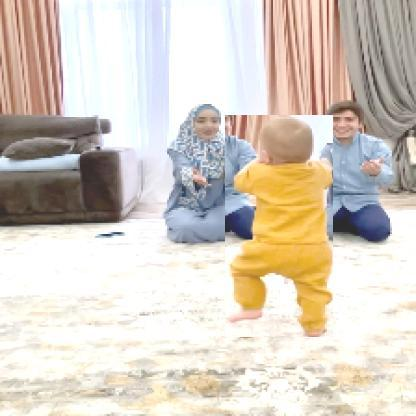child: (226, 116, 335, 339)
